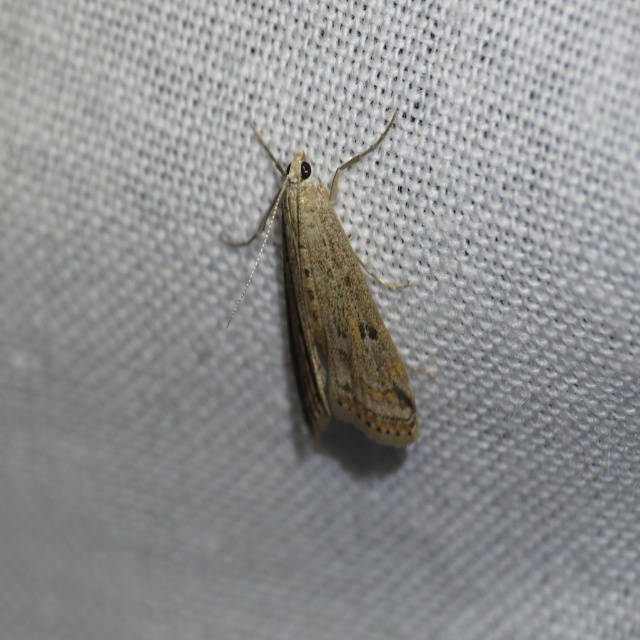Moths and butterflies: (220, 105, 420, 451)
